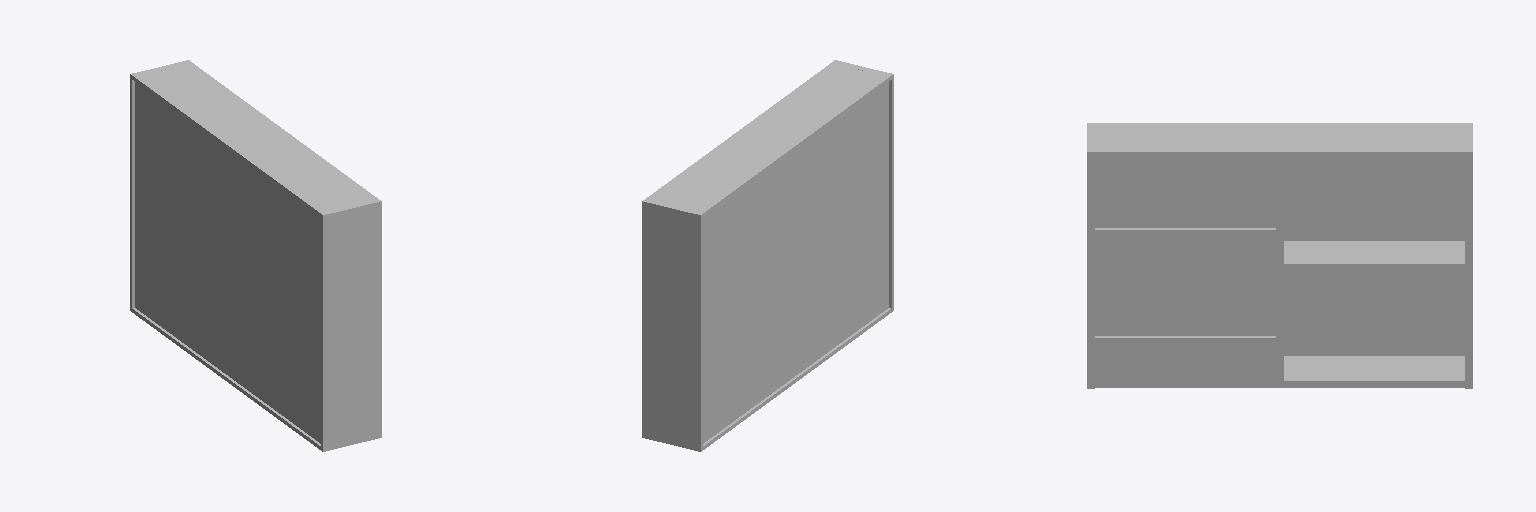
Rendered from shelf.obj.
3 views of the same model, side by side, from view 1: azimuth 30°, elevation 25°; view 2: azimuth 150°, elevation 25°; view 3: azimuth 270°, elevation 25° (orthographic).
Parts seen in each view (by area): view 1: Shelf_Cube.005; view 2: Shelf_Cube.005; view 3: Shelf_Cube.005.
Part boxes in pixels (left/top/right/bottom): Shelf_Cube.005: left=130, top=60, right=381, bottom=451; Shelf_Cube.005: left=642, top=60, right=893, bottom=451; Shelf_Cube.005: left=1087, top=123, right=1472, bottom=388.
Size of the model in its own units: 0.0259 by 0.1001 by 0.1478.